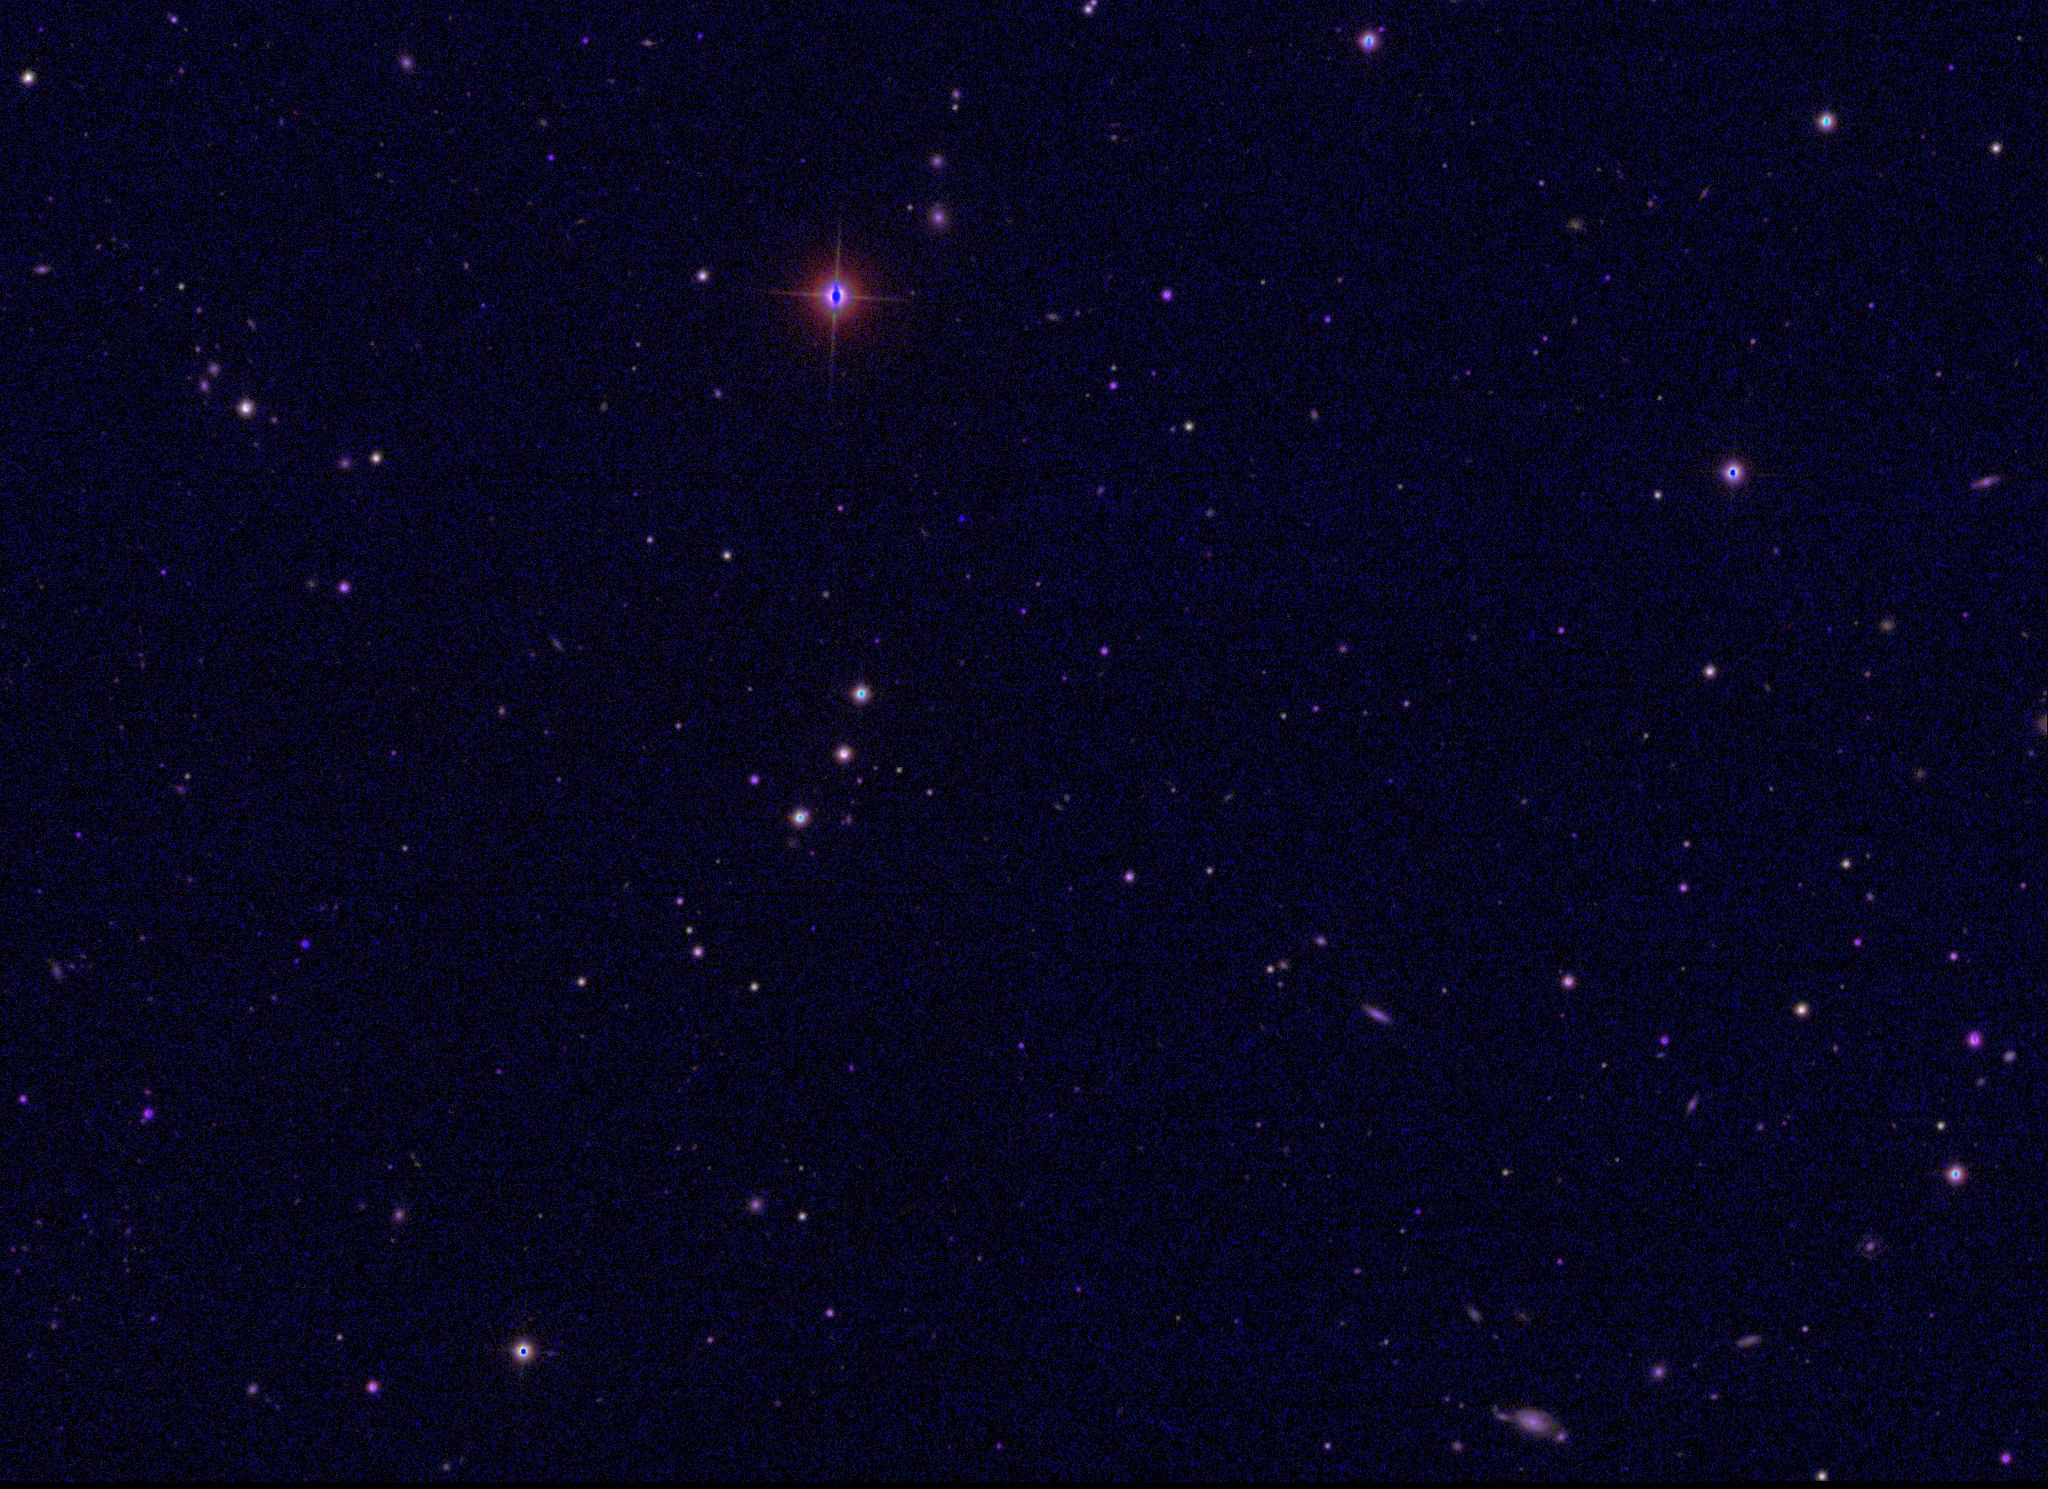L: (956, 511, 968, 523)
